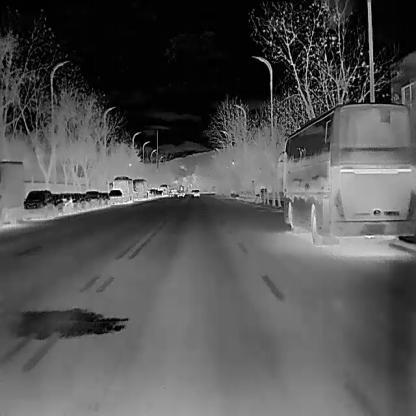car: (277, 101, 414, 247), (0, 159, 25, 229), (23, 188, 54, 219), (111, 174, 133, 204), (131, 176, 147, 201), (50, 193, 63, 216), (59, 192, 72, 213), (85, 190, 101, 207), (107, 188, 122, 204), (70, 193, 81, 211), (80, 193, 91, 210), (98, 191, 110, 205), (158, 184, 169, 196), (193, 189, 200, 197)
